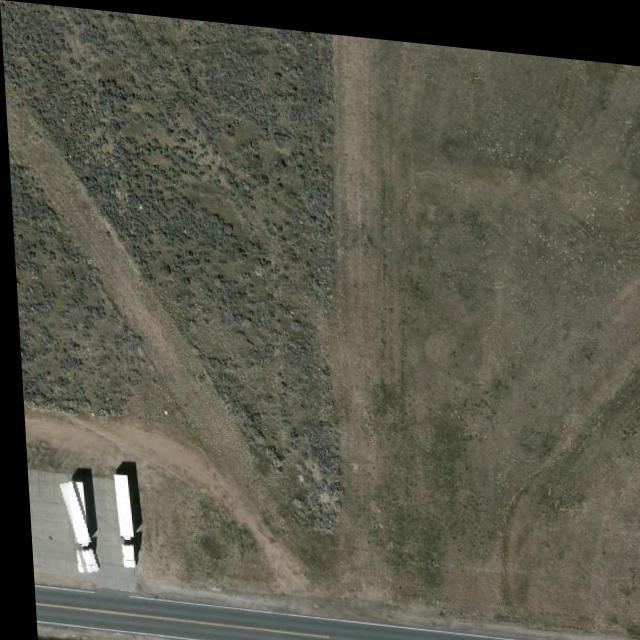vehicle: (58, 480, 90, 573), (109, 473, 130, 567)
